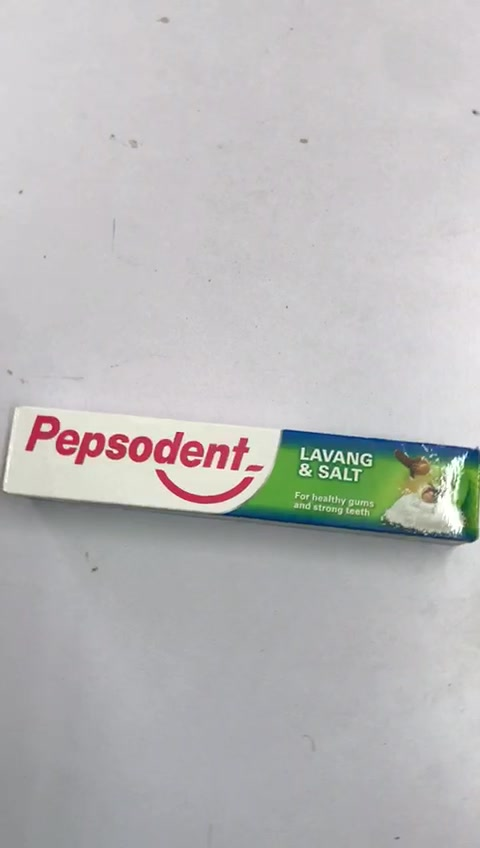pepsodent: (5, 402, 480, 546)
